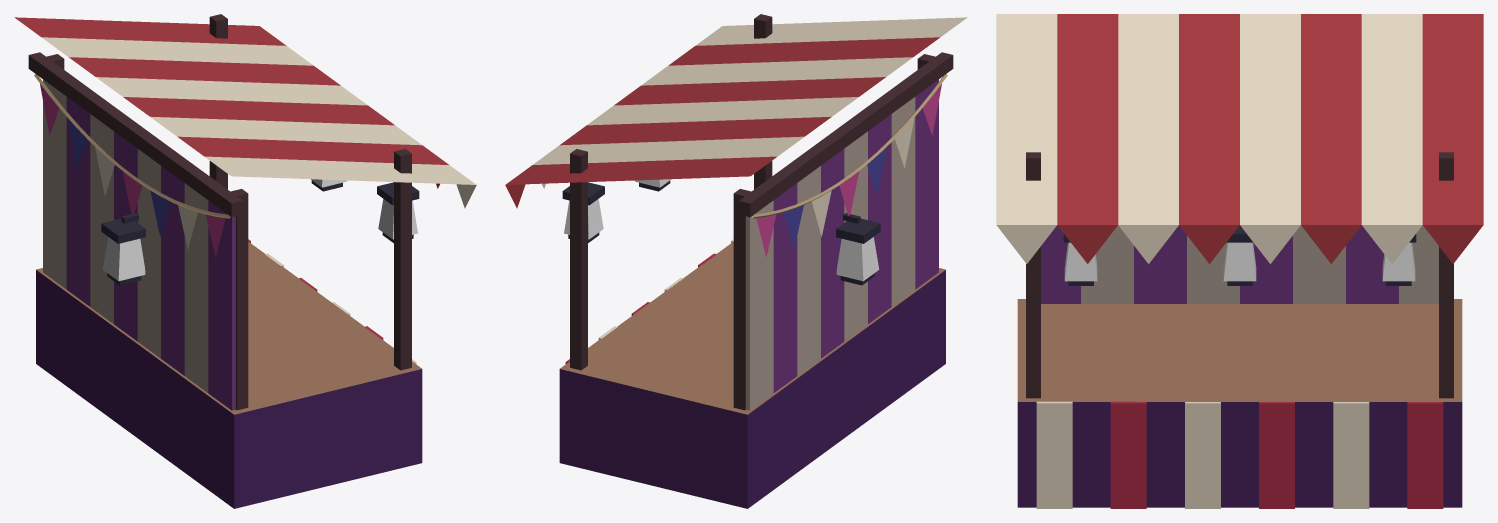
The model's file is Fair_Stall.fbx.
3 views of the same model, side by side, from view 1: azimuth 30°, elevation 25°; view 2: azimuth 150°, elevation 25°; view 3: azimuth 270°, elevation 25° (orthographic). The views are drawn at different scales.
Parts seen in each view (by area): view 1: Fair_Stall; view 2: Fair_Stall; view 3: Fair_Stall.
Boxes of the visible parts, bbox=[...] form: Fair_Stall: bbox=[14, 14, 476, 508]; Fair_Stall: bbox=[505, 14, 967, 508]; Fair_Stall: bbox=[996, 14, 1483, 508].
Size of what is drawn, in the model's own units: 3.18 by 4 by 4.6.
Materials: 2 (1 with a texture image).
